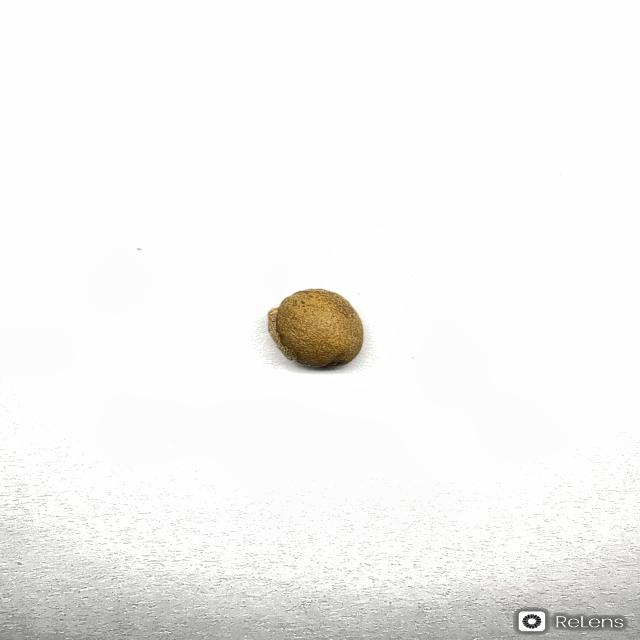Quaker: (266, 287, 364, 368)
